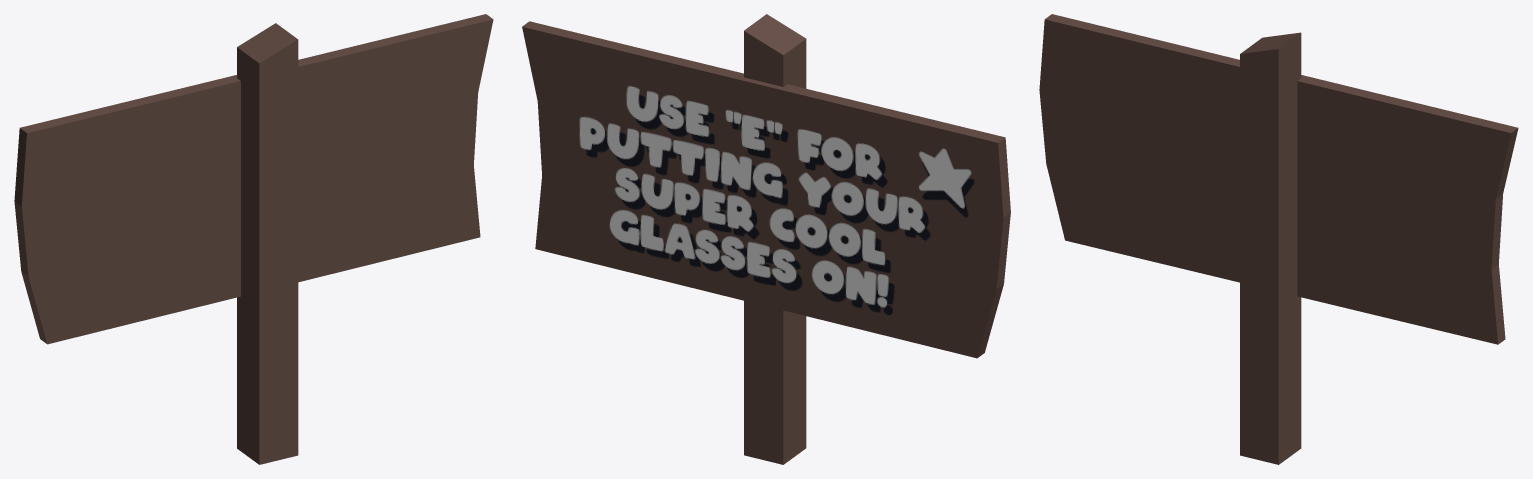
File: letrero_glasses.fbx
3 views of the same model, side by side, from view 1: azimuth 30°, elevation 25°; view 2: azimuth 150°, elevation 25°; view 3: azimuth 330°, elevation 25° (orthographic). The views are drawn at different scales.
Visible parts, largest first — view 1: Cube.003, Cube.002; view 2: Cube.003, Cube.002; view 3: Cube.003, Cube.002.
Part boxes in pixels (x1,y1,x2,y2): Cube.003: (14, 14, 493, 344); Cube.002: (237, 23, 298, 464); Cube.003: (522, 21, 1010, 358); Cube.002: (744, 14, 806, 464); Cube.003: (1039, 14, 1518, 344); Cube.002: (1240, 32, 1301, 464).
Size of the model in its own units: 898 by 757 by 85.44.
